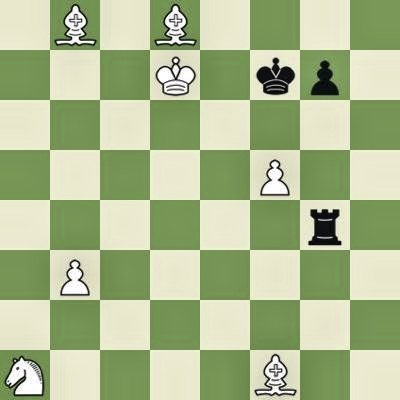black-king: (250, 50, 300, 100)
black-pawn: (300, 50, 350, 100)
black-rook: (300, 200, 350, 250)
white-bishop: (50, 0, 100, 50), (150, 0, 200, 50), (250, 350, 300, 400)
white-king: (150, 50, 200, 100)
white-knight: (0, 350, 50, 400)
white-pawn: (250, 150, 300, 200), (50, 250, 100, 300)
